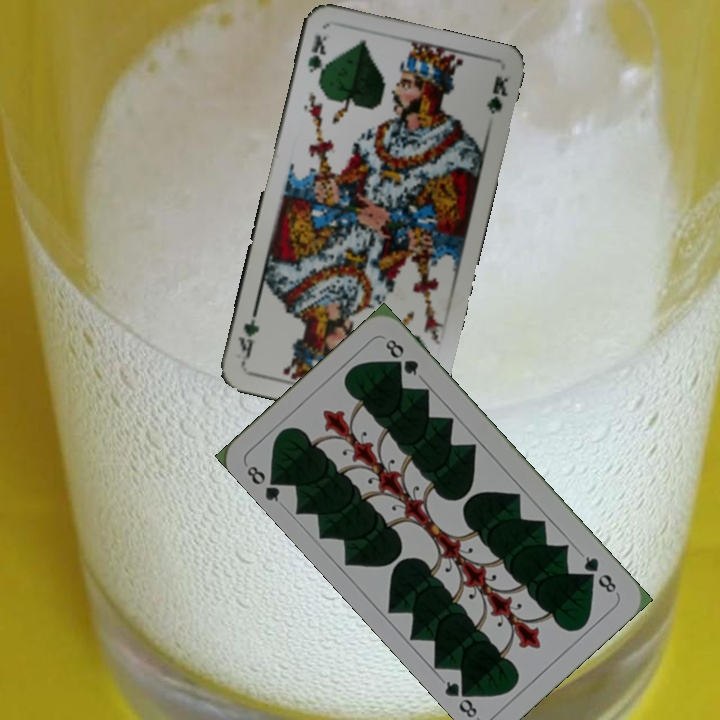G8: (242, 461, 287, 505), (580, 551, 619, 596)
GK: (303, 31, 330, 85)
